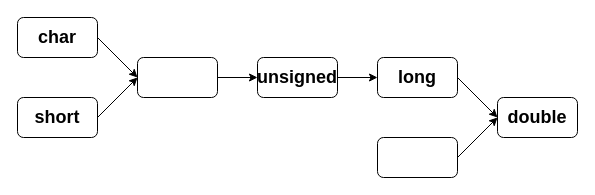
This 595x195 diagram has some shape labels left out. The shapes that lost their labels are listed below. From the top down, each one's centre as x and y in pixels, then its label:
the point at 177,77: int
the point at 417,157: float
